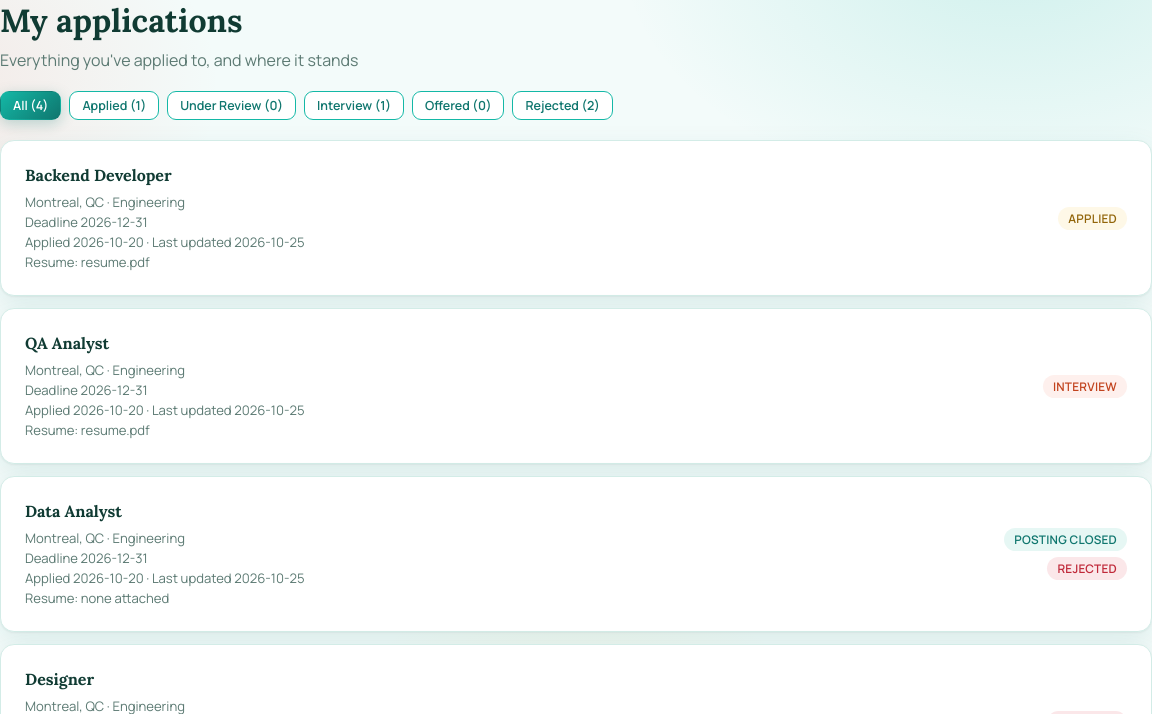
Test: MyApplications › filters by status and shows the total for that status at the top
Click the button "Rejected (2)" at (563, 106), box [512, 91, 613, 120]
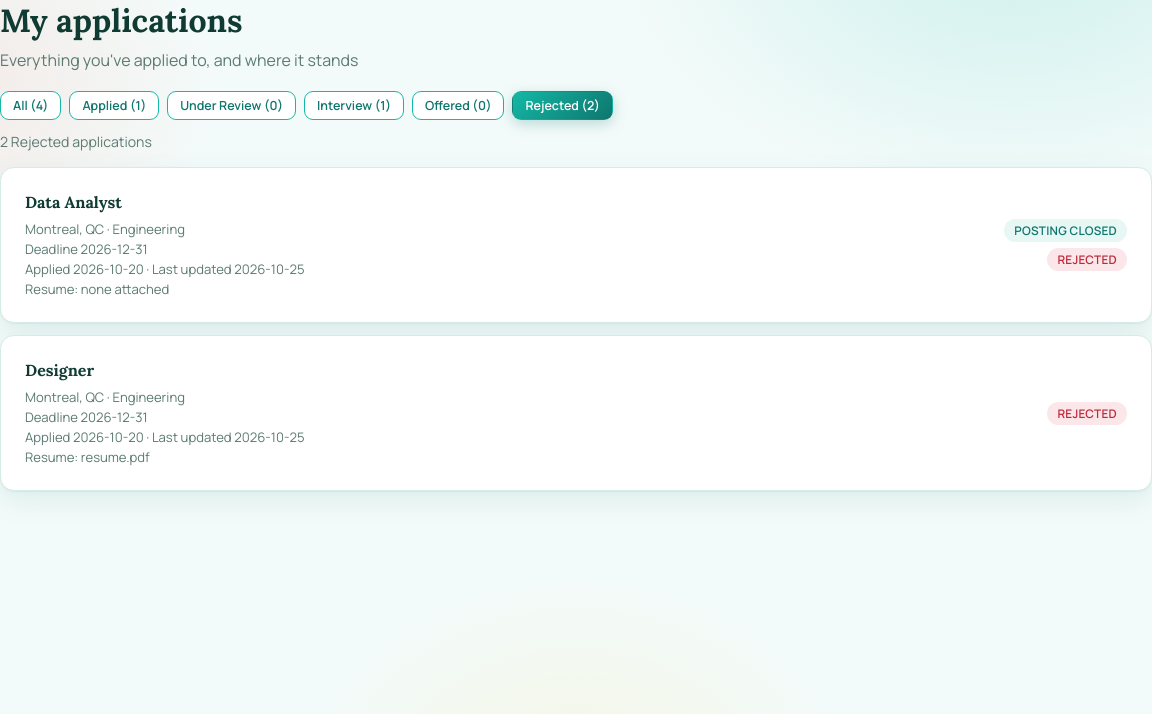
Check: the button "All (4)" is shown, box [0, 91, 61, 120]
Check: the text with class "filter-summary" reads "2 Rejected applications", box [0, 132, 152, 151]
